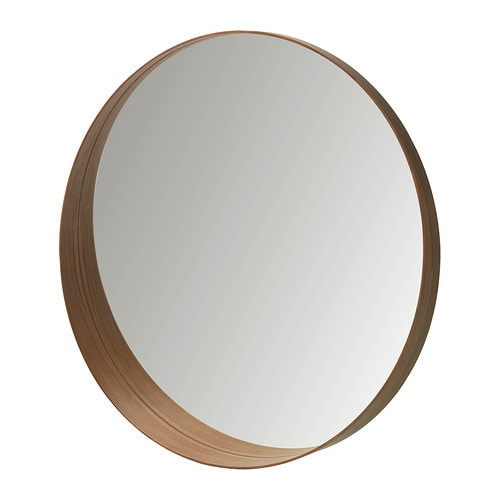Nonrec_Glass: (45, 20, 453, 465)
